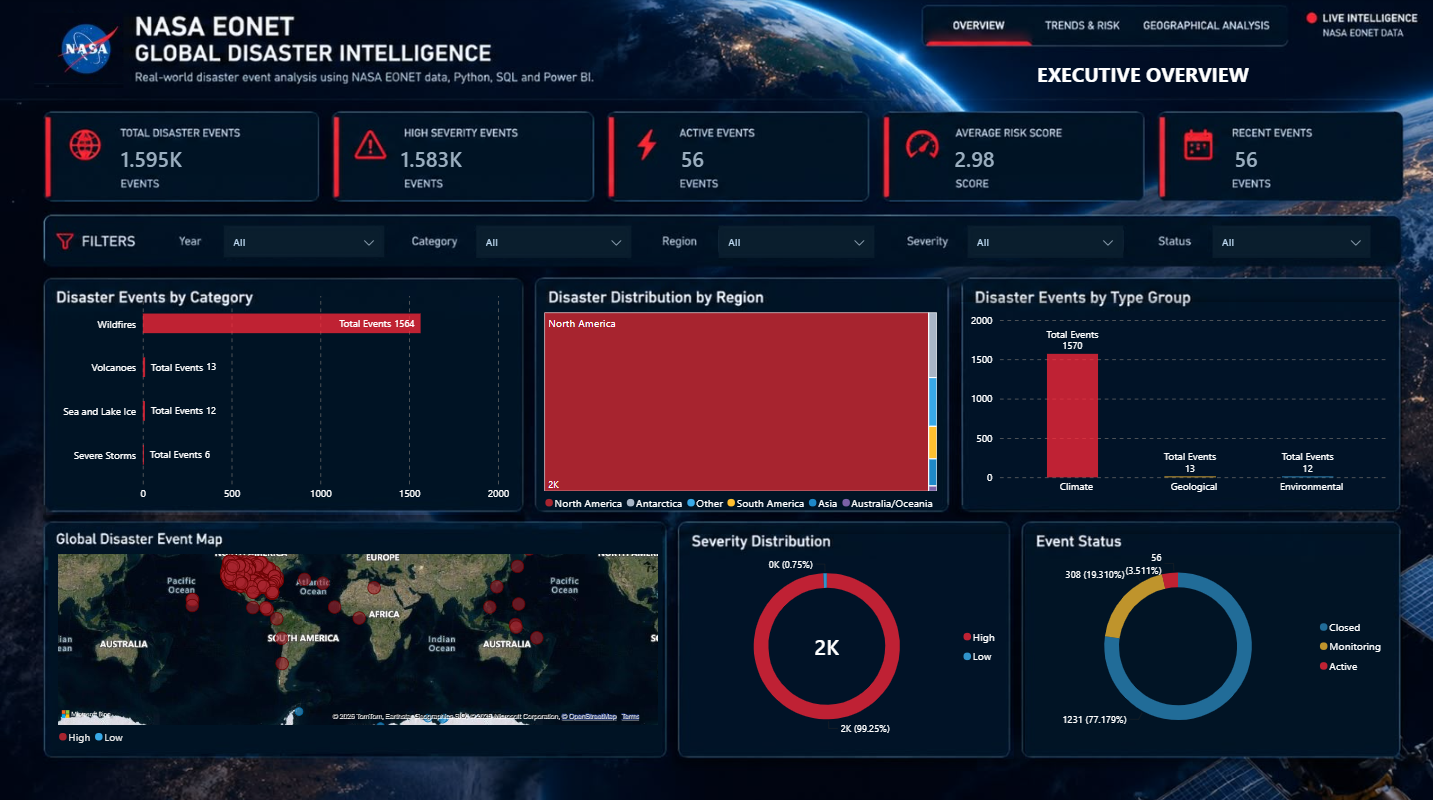

This screenshot's page, from the dashboard's own definition file:
{"tool":"powerbi","page":{"name":"Executive Overview","canvas":[1920,1080],"ordinal":0},"visuals":[{"type":"group","id":"g1","title":"Executive Overview","box":[41.7,14,1828.4,1002.9],"z":0},{"type":"group","id":"g2","title":"Group 1","box":[41.7,20.1,1828.4,996.9],"z":0,"group":"g1"},{"type":"donutChart","title":"Severity Distribution","fields":{"Category":["disaster_events.severity"],"Y":["disaster_events.Total Events"]},"box":[906.6,716.4,447.5,300.6],"z":0,"group":"g2"},{"type":"actionButton","box":[1231.4,14,141.3,50.6],"z":1000,"group":"g3"},{"type":"textbox","box":[1337.8,83.7,378.5,48.8],"z":1000},{"type":"treemap","title":"Disaster Distribution by Region","fields":{"Group":["disaster_events.region"],"Values":["disaster_events.Total Events"]},"box":[711.3,405.8,556,298.9],"z":1000,"group":"g2"},{"type":"actionButton","box":[1379.7,14,141.3,50.6],"z":2000,"group":"g3"},{"type":"clusteredColumnChart","title":"Disaster Events by Type Group","fields":{"Category":["disaster_events.disaster_type_group"],"Y":["disaster_events.Total Events"]},"box":[1280.7,405.8,589.4,277.2],"z":2000,"group":"g2"},{"type":"actionButton","box":[1527.9,14,188.4,50.6],"z":3000,"group":"g3"},{"type":"clusteredBarChart","title":"Disaster Events by Category","fields":{"Category":["disaster_events.category"],"Y":["disaster_events.Total Events"]},"box":[61.7,375.8,634.5,315.6],"z":3000,"group":"g2"},{"type":"group","id":"g3","title":"Buttons1","box":[1231.4,14,484.9,50.6],"z":3001,"group":"g1"},{"type":"map","title":"Global Disaster Event Map","fields":{"Category":["disaster_events.event_id"],"Series":["disaster_events.severity"],"Size":["Sum(disaster_events.risk_score)"],"X":["Avg(disaster_events.longitude)"],"Y":["Avg(disaster_events.latitude)"]},"box":[61.7,728.1,833.2,288.9],"z":4000,"group":"g2"},{"type":"pieChart","title":"Event Status","fields":{"Category":["disaster_events.status"],"Y":["disaster_events.Total Events"]},"box":[1369.2,716.4,500.9,300.6],"z":5000,"group":"g2"},{"type":"image","box":[41.7,20.1,126.9,100.2],"z":6000,"group":"g2"},{"type":"cardVisual","fields":{"Data":["Count(disaster_events.event_id)"]},"box":[144.7,172.7,191.9,85.5],"z":7000,"group":"g2"},{"type":"cardVisual","fields":{"Data":["disaster_events.Active Events"]},"box":[893,172.7,191.9,85.5],"z":8000,"group":"g2"},{"type":"cardVisual","fields":{"Data":["disaster_events.High Severity Events"]},"box":[519.7,172.7,191.9,85.5],"z":9000,"group":"g2"},{"type":"cardVisual","fields":{"Data":["disaster_events.Average Risk Score"]},"box":[1259.3,172.7,191.9,85.5],"z":10000,"group":"g2"},{"type":"cardVisual","fields":{"Data":["disaster_events.Recent Events"]},"box":[1632.5,172.7,191.9,85.5],"z":11000,"group":"g2"},{"type":"slicer","fields":{"Values":["disaster_events.year"]},"box":[298.2,303.6,214.2,42.5],"z":12000,"group":"g2"},{"type":"slicer","fields":{"Values":["disaster_events.category"]},"box":[635.4,304.5,207.1,43.4],"z":13000,"group":"g2"},{"type":"slicer","fields":{"Values":["disaster_events.region"]},"box":[960.1,303.6,208,43.4],"z":14000,"group":"g2"},{"type":"slicer","fields":{"Values":["disaster_events.severity"]},"box":[1292,304.5,208,43.4],"z":15000,"group":"g2"},{"type":"slicer","fields":{"Values":["disaster_events.status"]},"box":[1619.4,303.6,211.5,43.4],"z":16000,"group":"g2"}]}

Visuals, with their boxes in screenshot pixels (x1, y1, x2, y2), scaled from the page's 1920x1080 canvas onto the 1433x800 screenshot:
"Executive Overview" group: {"left": 31, "top": 10, "right": 1396, "bottom": 753}
"Group 1" group: {"left": 31, "top": 15, "right": 1396, "bottom": 753}
"Severity Distribution" donutChart: {"left": 677, "top": 531, "right": 1011, "bottom": 753}
actionButton: {"left": 919, "top": 10, "right": 1025, "bottom": 48}
textbox: {"left": 998, "top": 62, "right": 1281, "bottom": 98}
"Disaster Distribution by Region" treemap: {"left": 531, "top": 301, "right": 946, "bottom": 522}
actionButton: {"left": 1030, "top": 10, "right": 1135, "bottom": 48}
"Disaster Events by Type Group" clusteredColumnChart: {"left": 956, "top": 301, "right": 1396, "bottom": 506}
actionButton: {"left": 1140, "top": 10, "right": 1281, "bottom": 48}
"Disaster Events by Category" clusteredBarChart: {"left": 46, "top": 278, "right": 520, "bottom": 512}
"Buttons1" group: {"left": 919, "top": 10, "right": 1281, "bottom": 48}
"Global Disaster Event Map" map: {"left": 46, "top": 539, "right": 668, "bottom": 753}
"Event Status" pieChart: {"left": 1022, "top": 531, "right": 1396, "bottom": 753}
image: {"left": 31, "top": 15, "right": 126, "bottom": 89}
cardVisual - Count(disaster_events.event_id): {"left": 108, "top": 128, "right": 251, "bottom": 191}
cardVisual - disaster_events.Active Events: {"left": 666, "top": 128, "right": 810, "bottom": 191}
cardVisual - disaster_events.High Severity Events: {"left": 388, "top": 128, "right": 531, "bottom": 191}
cardVisual - disaster_events.Average Risk Score: {"left": 940, "top": 128, "right": 1083, "bottom": 191}
cardVisual - disaster_events.Recent Events: {"left": 1218, "top": 128, "right": 1362, "bottom": 191}
slicer - disaster_events.year: {"left": 223, "top": 225, "right": 382, "bottom": 256}
slicer - disaster_events.category: {"left": 474, "top": 226, "right": 629, "bottom": 258}
slicer - disaster_events.region: {"left": 717, "top": 225, "right": 872, "bottom": 257}
slicer - disaster_events.severity: {"left": 964, "top": 226, "right": 1120, "bottom": 258}
slicer - disaster_events.status: {"left": 1209, "top": 225, "right": 1366, "bottom": 257}
